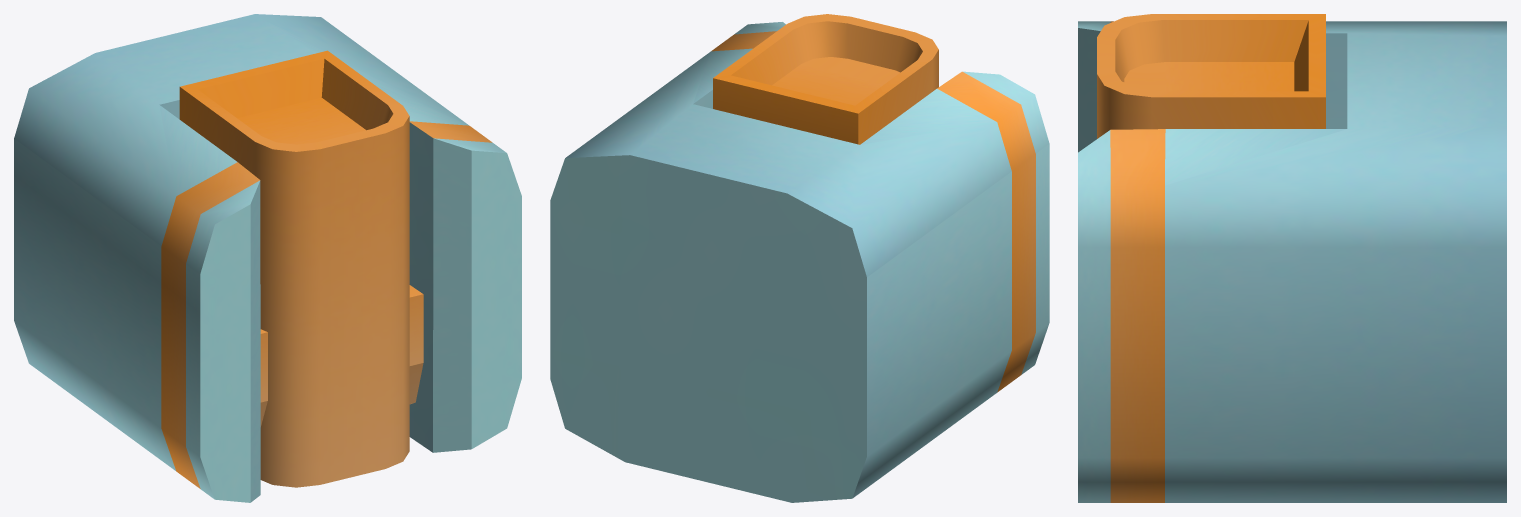
Rendered from Gun 3.fbx.
The picture shows the model from 3 angles, left to right: view 1: azimuth 30°, elevation 25°; view 2: azimuth 150°, elevation 25°; view 3: azimuth 270°, elevation 25°; orthographic projection. The views are drawn at different scales.
Parts seen in each view (by area): view 1: Simple gun.004, Simple gun.006; view 2: Simple gun.004, Simple gun.006; view 3: Simple gun.004, Simple gun.006.
Part boxes in pixels (x1,y1,x2,y2): Simple gun.004: (14,14,521,502); Simple gun.006: (179,50,409,487); Simple gun.004: (550,22,1049,502); Simple gun.006: (713,14,938,144); Simple gun.004: (1078,21,1506,502); Simple gun.006: (1097,14,1325,138).
Size of the model in its own units: 100 by 100 by 100.
